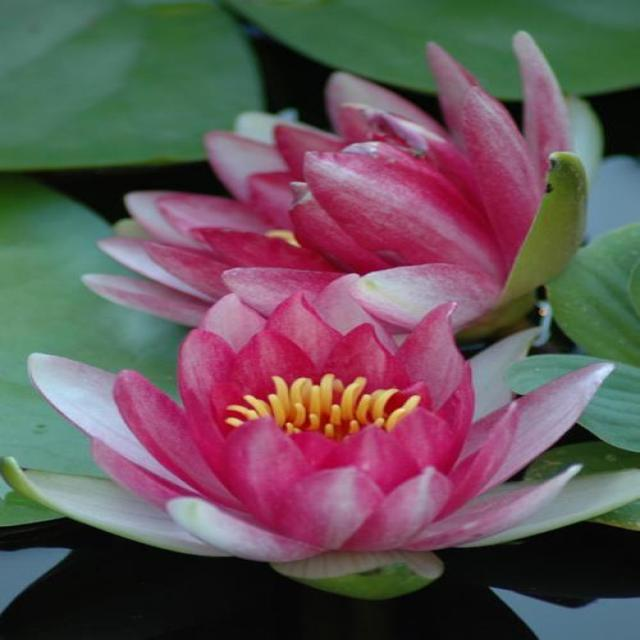water-lily: (66, 13, 632, 343), (26, 284, 621, 576)
